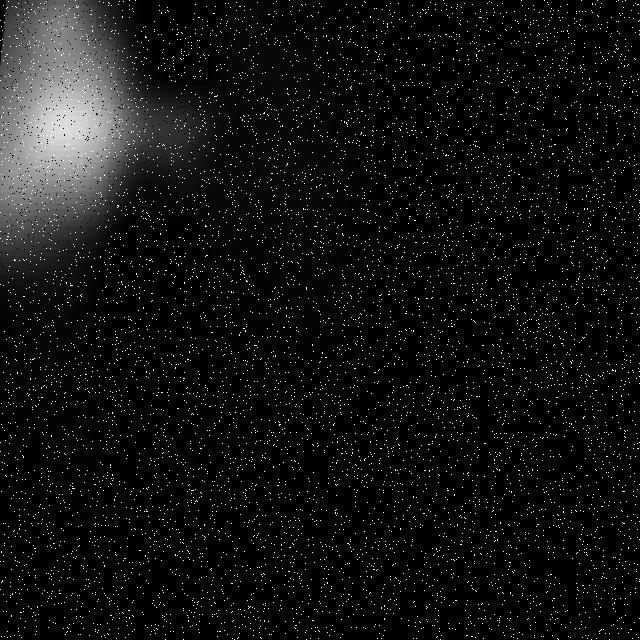person: (1, 1, 256, 313)
